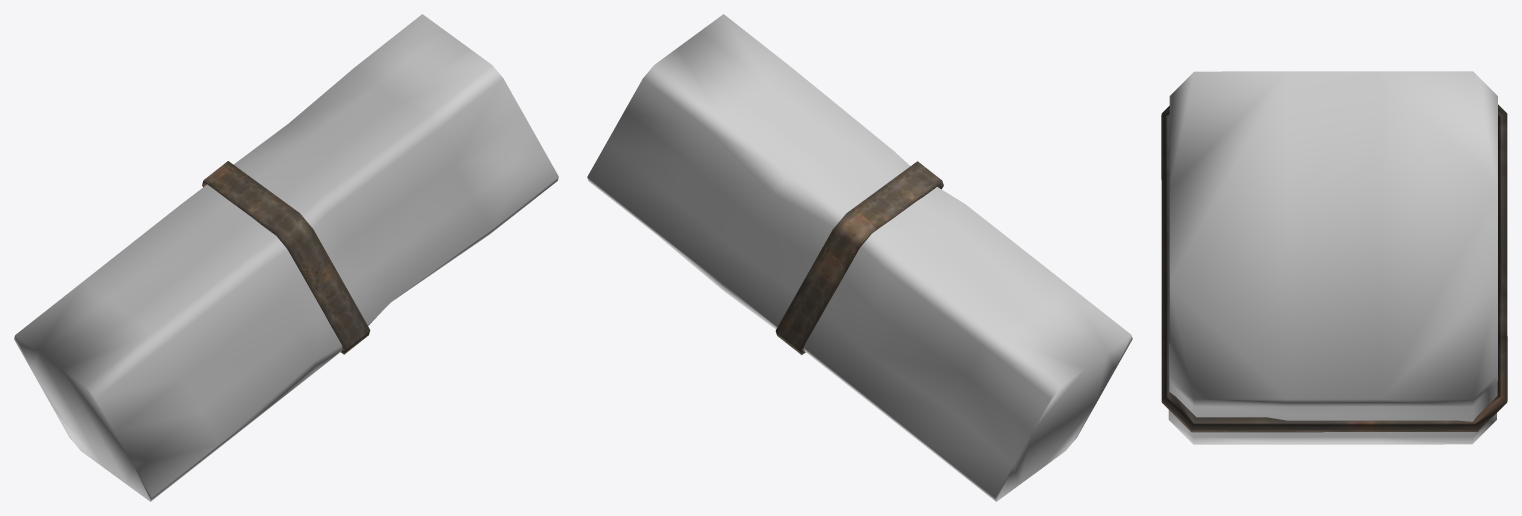
3 renders of one model, left to right at view 1: azimuth 30°, elevation 25°; view 2: azimuth 150°, elevation 25°; view 3: azimuth 270°, elevation 25°, orthographic. The views are drawn at different scales.
Parts seen in each view (by area): view 1: SM_BB_T3_Extended_Beam_Thick_Med_Shallow_LOD0; view 2: SM_BB_T3_Extended_Beam_Thick_Med_Shallow_LOD0; view 3: SM_BB_T3_Extended_Beam_Thick_Med_Shallow_LOD0.
Boxes of the visible parts, box(x1,y1,x2,y2) form: SM_BB_T3_Extended_Beam_Thick_Med_Shallow_LOD0: box(14, 14, 558, 501); SM_BB_T3_Extended_Beam_Thick_Med_Shallow_LOD0: box(587, 14, 1132, 501); SM_BB_T3_Extended_Beam_Thick_Med_Shallow_LOD0: box(1161, 71, 1507, 444).
Bounding box in the file's own units: 1.73 × 1.23 × 0.548.
